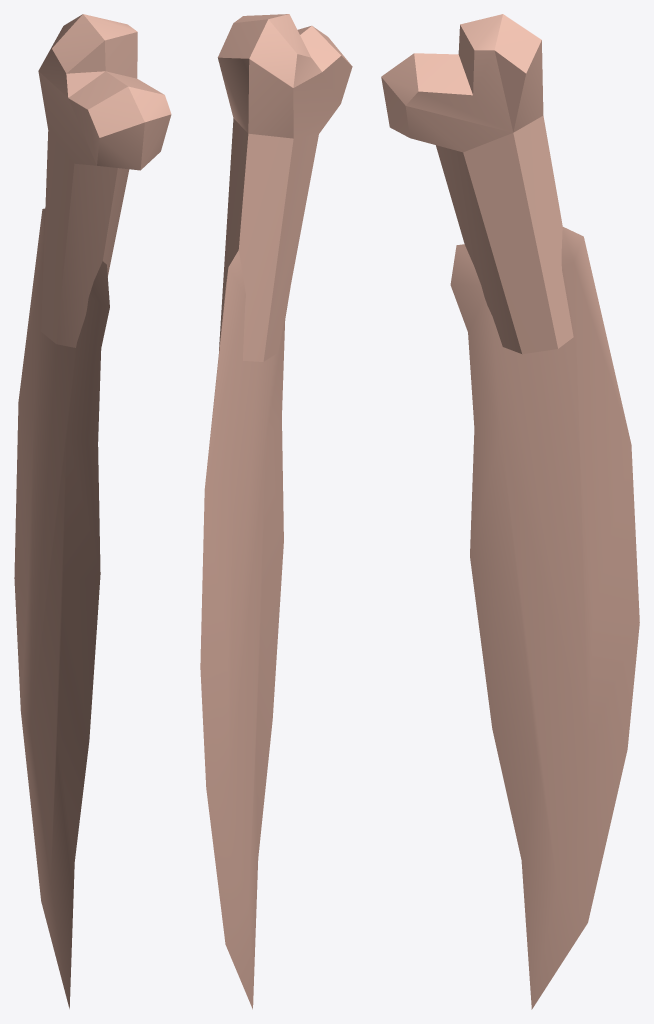
File: stoneknife.gltf
3 views of the same model, side by side, from view 1: azimuth 30°, elevation 25°; view 2: azimuth 150°, elevation 25°; view 3: azimuth 270°, elevation 25° (orthographic). The views are drawn at different scales.
Parts seen in each view (by area): view 1: stone; view 2: stone; view 3: stone.
Part boxes in pixels (x1,y1,x2,y2): stone: (14,14,171,1008); stone: (200,14,352,1009); stone: (381,14,639,1009).
Size of the model in its own units: 0.0494 by 0.6301 by 0.1484.
